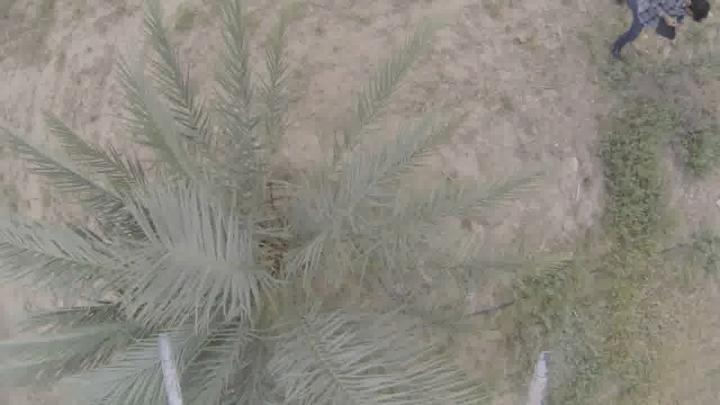Date-Palm-Crown: (124, 146, 414, 404)
